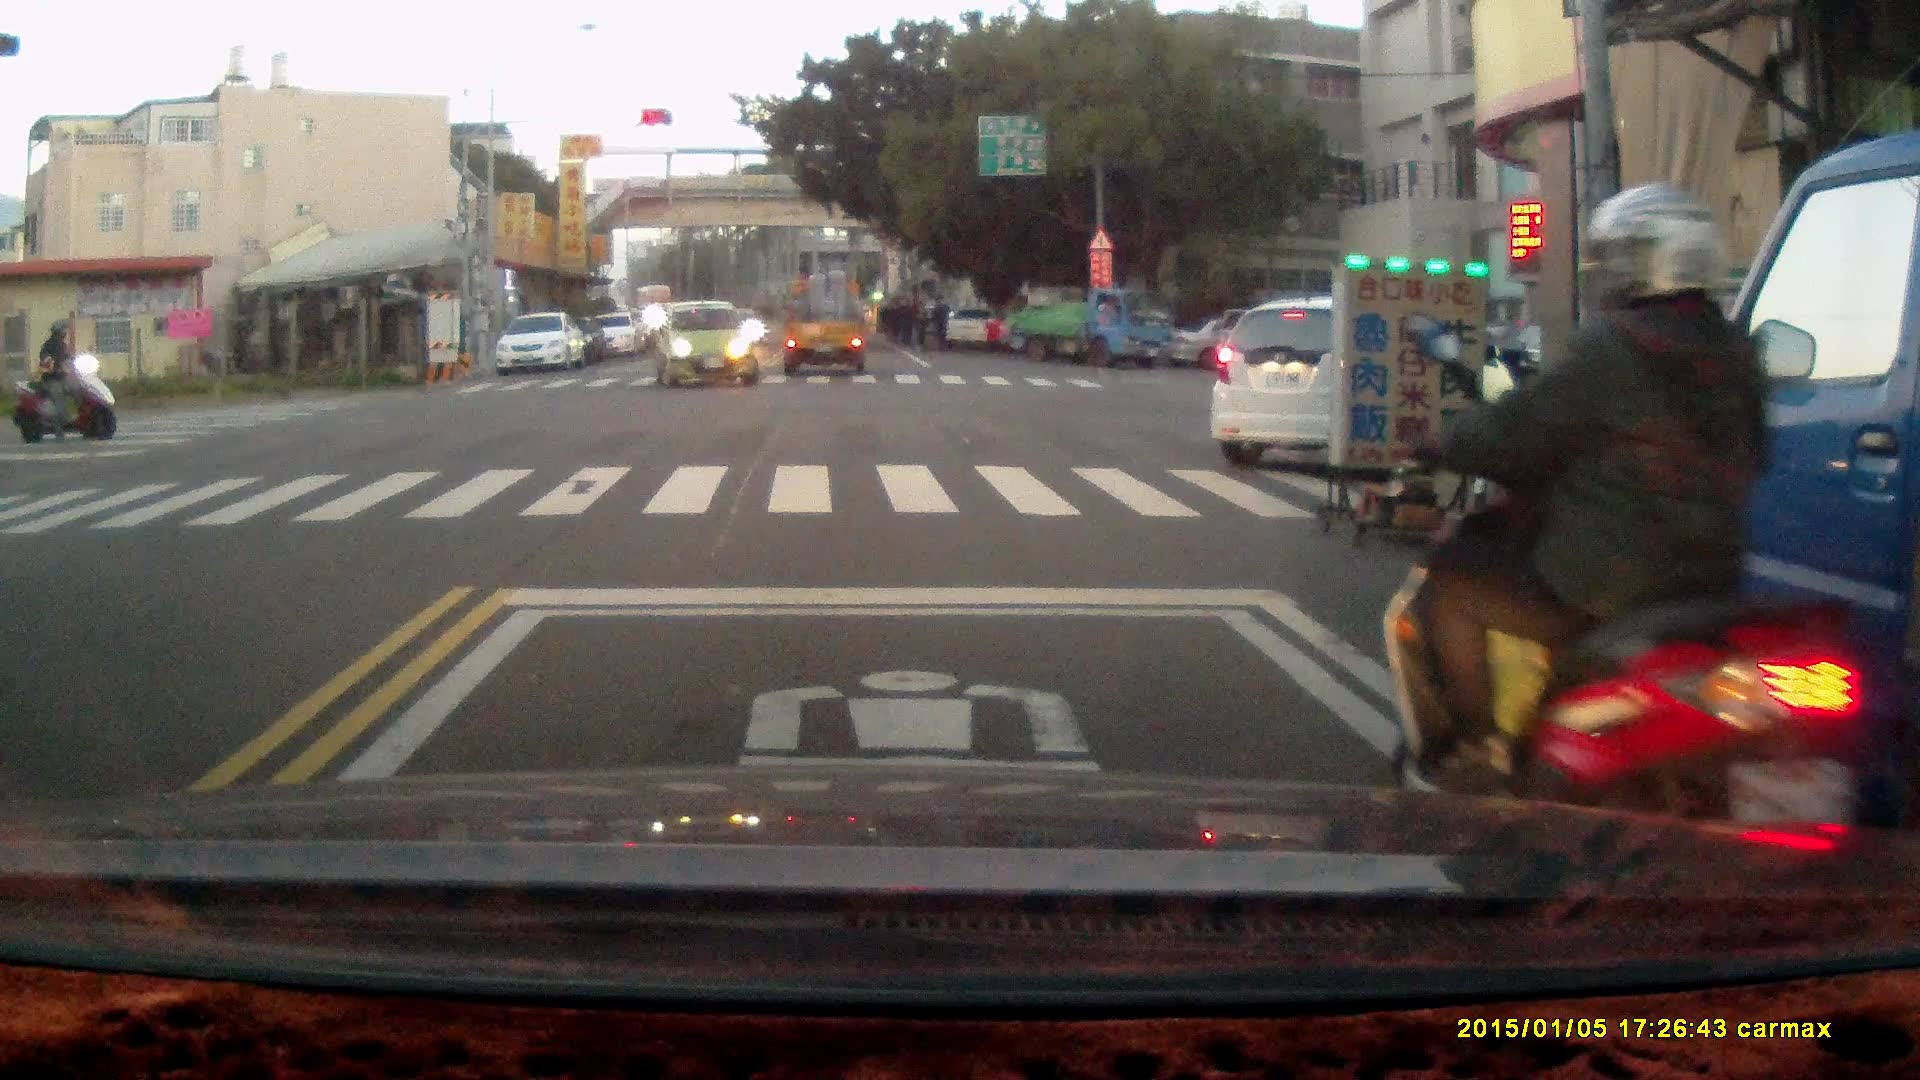rider: (1375, 176, 1859, 926), (10, 316, 119, 440)
vehicle: (1599, 132, 1920, 917), (1206, 293, 1519, 466), (1002, 284, 1175, 367), (784, 266, 871, 382), (661, 297, 766, 391), (498, 313, 587, 377), (592, 311, 642, 360)
